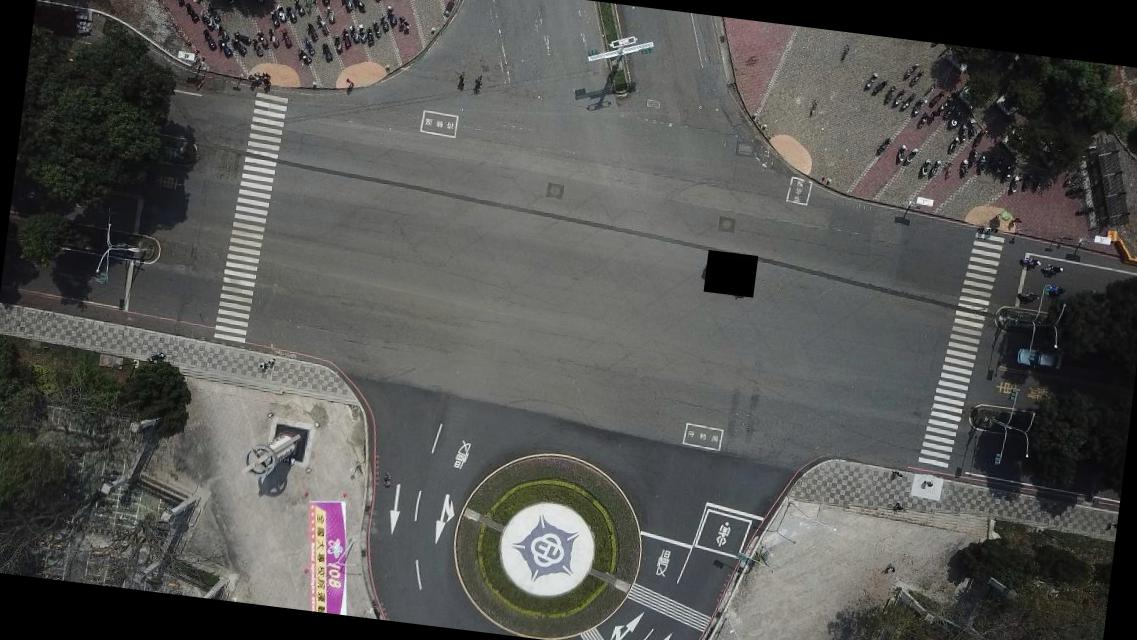vehicle: (1015, 344, 1064, 372)
